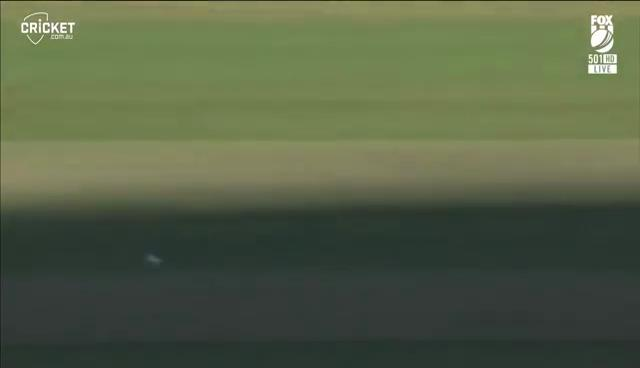ball: (136, 243, 174, 272)
